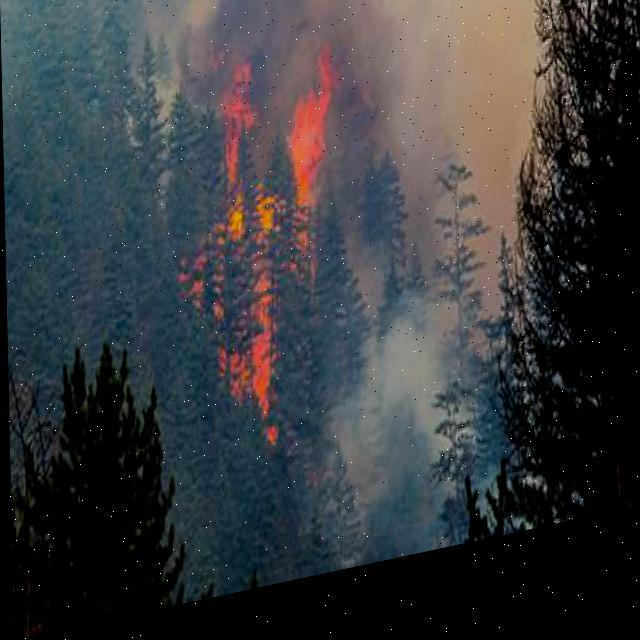Fire: (182, 48, 348, 492)
